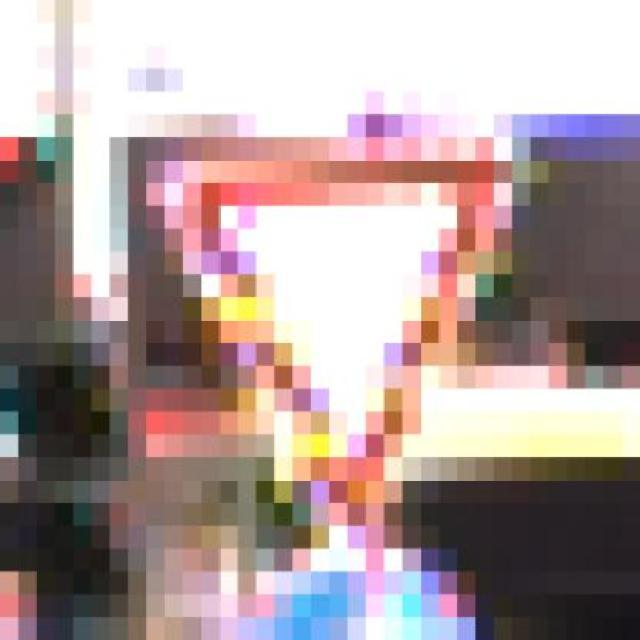Give Way: (146, 114, 531, 572)
